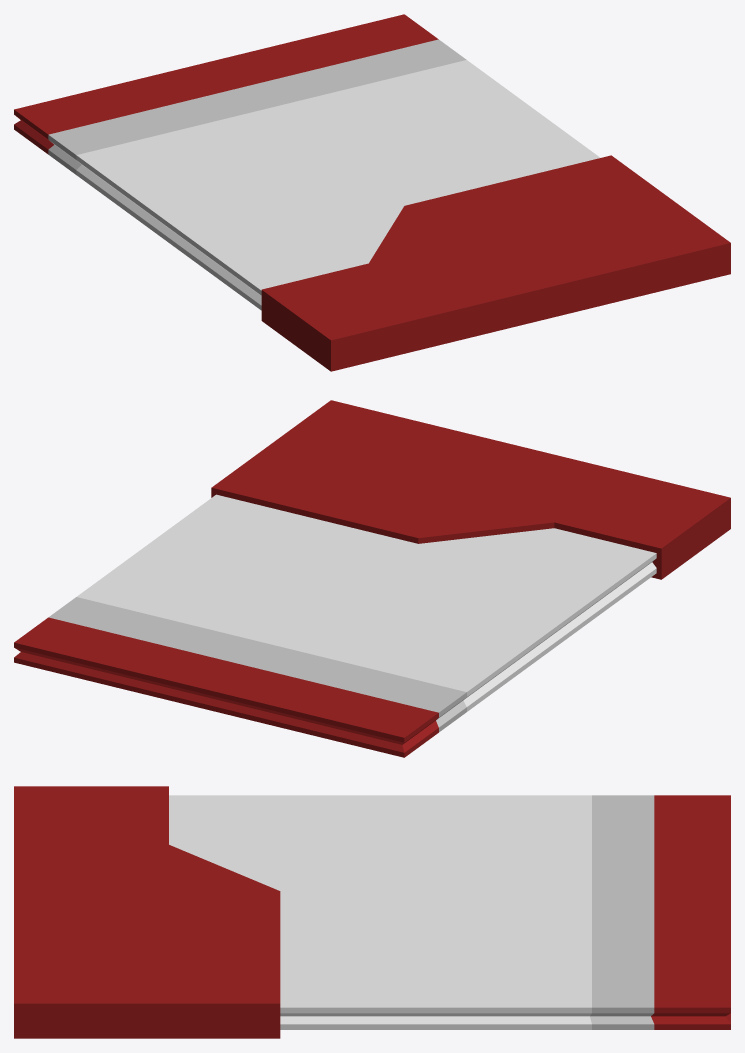
File: badJavaDoc.glb
3 renders of one model, top to bottom at view 1: azimuth 30°, elevation 25°; view 2: azimuth 150°, elevation 25°; view 3: azimuth 270°, elevation 25°, orthographic. The views are drawn at different scales.
Parts seen in each view (by area): view 1: Plane; view 2: Plane; view 3: Plane.
Boxes of the visible parts, box(x1,y1,x2,y2) form: Plane: box(14, 14, 730, 371); Plane: box(14, 400, 730, 757); Plane: box(14, 786, 730, 1038).
Size of the model in its own units: 0.2102 by 0.0157 by 0.2929.
